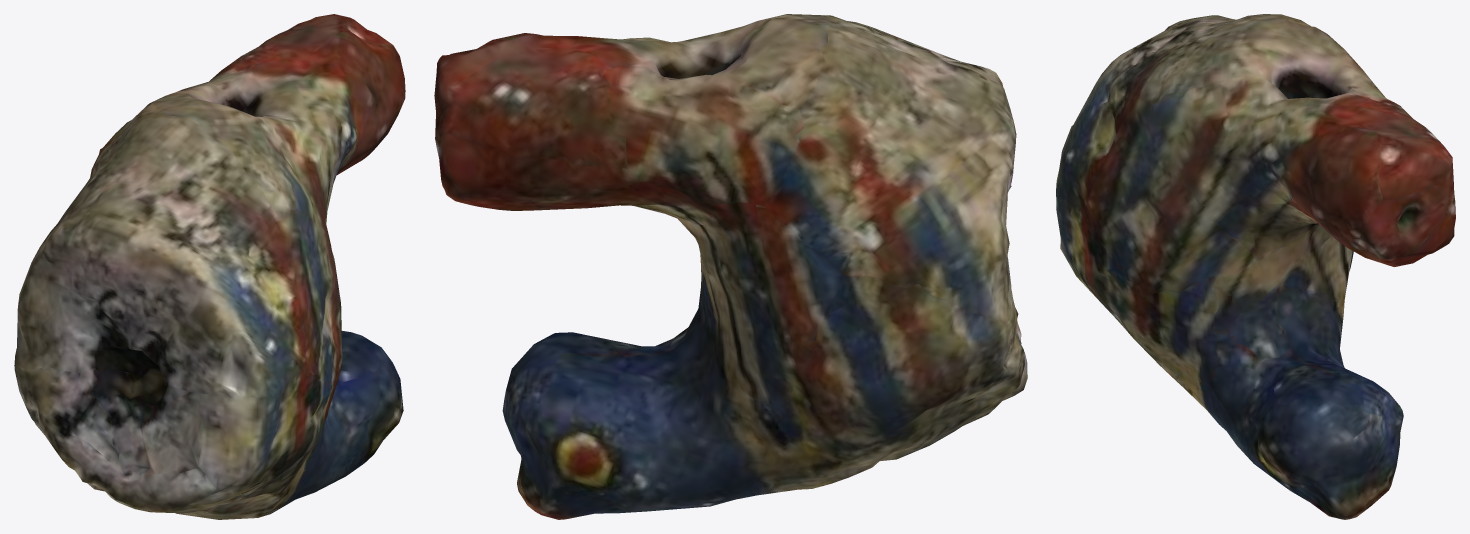
Rendered from hall.glb.
3 renders of one model, left to right at view 1: azimuth 30°, elevation 25°; view 2: azimuth 150°, elevation 25°; view 3: azimuth 270°, elevation 25°, orthographic. The views are drawn at different scales.
Bounding box in the file's own units: 0.5054 × 0.4775 × 0.4245.
1 material, 1 textured.
